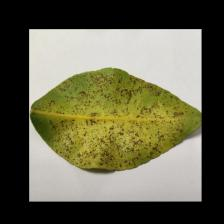canker: (63, 83, 156, 159)
